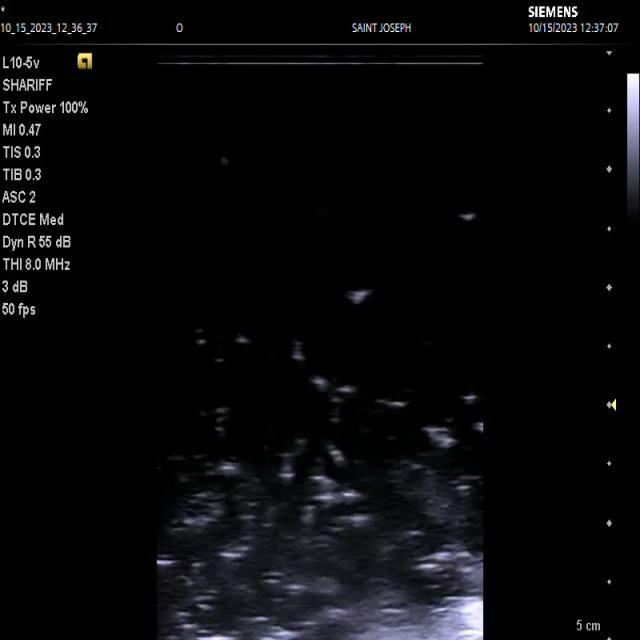tissue: (442, 596, 483, 640)
